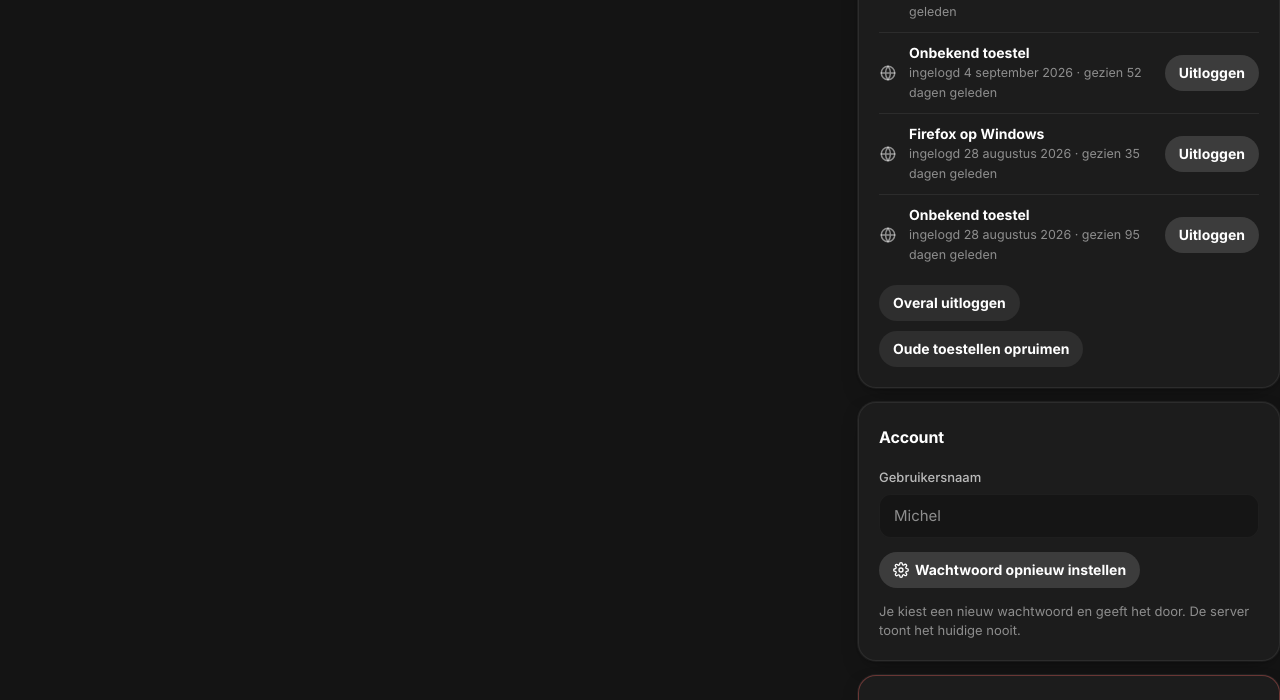
Test: oude toestellen opruimen, scherm 27 › stuurt niets bij annuleren (negatieve controle)
(page scrolled)
Click the button "Oude toestellen opruimen" at [981, 349], box x1=879 y1=331 x2=1084 y2=367
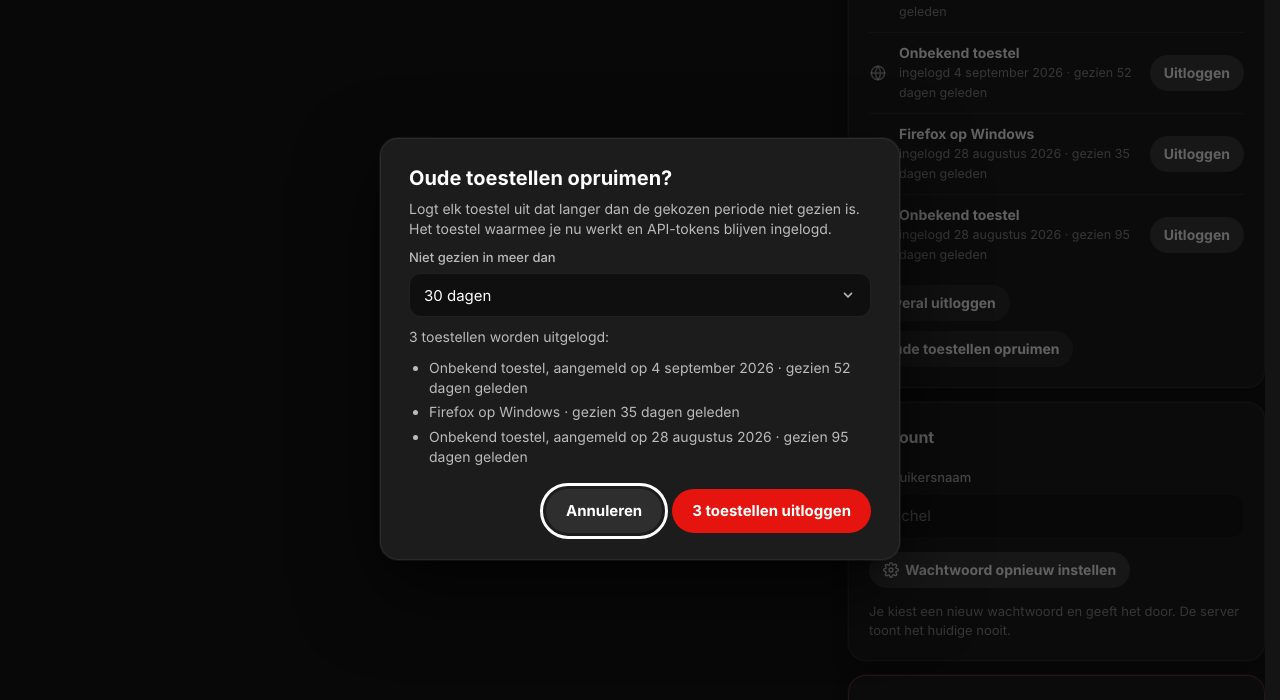
Click the button "Annuleren" at [604, 511], box x1=546 y1=489 x2=662 y2=533
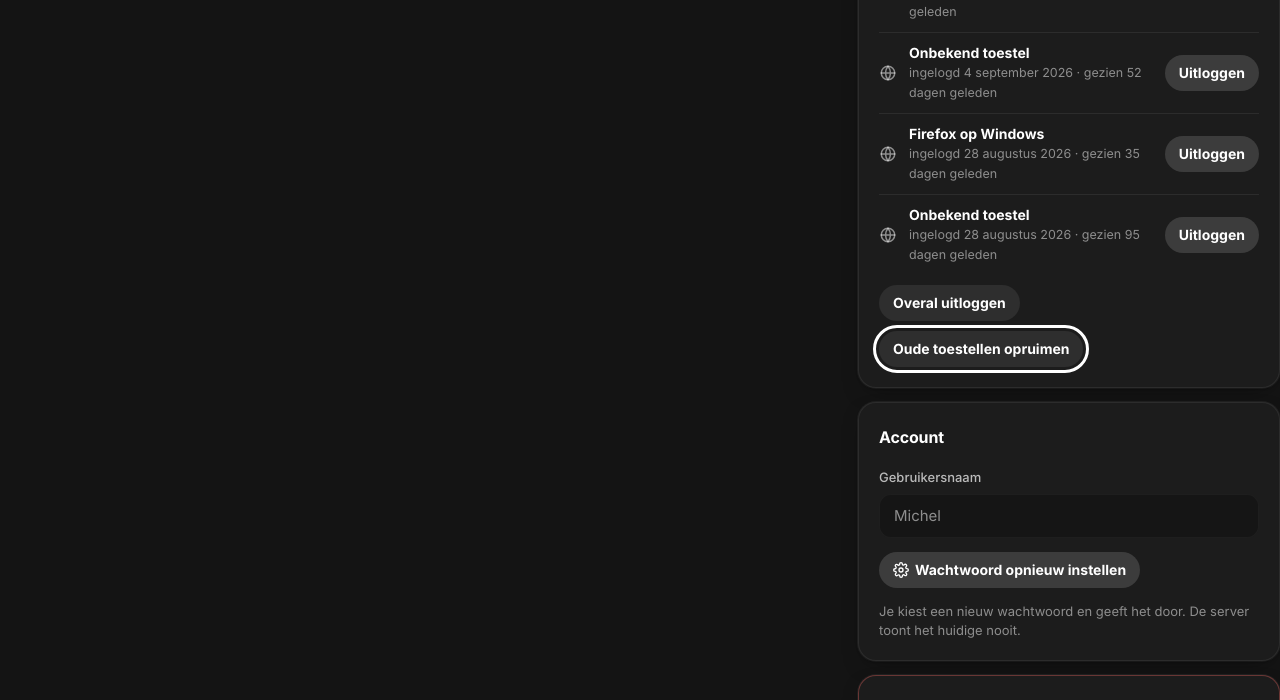
Check: the dialog is gone
